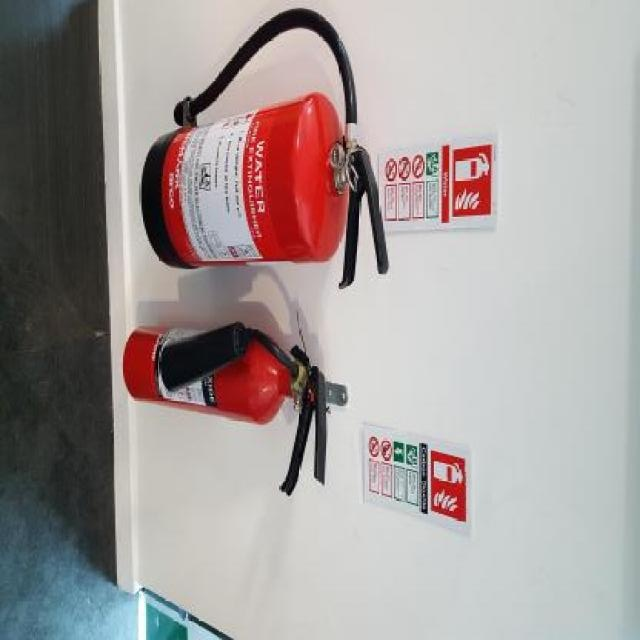fire extinguisher: (138, 5, 390, 291), (121, 323, 327, 495)
